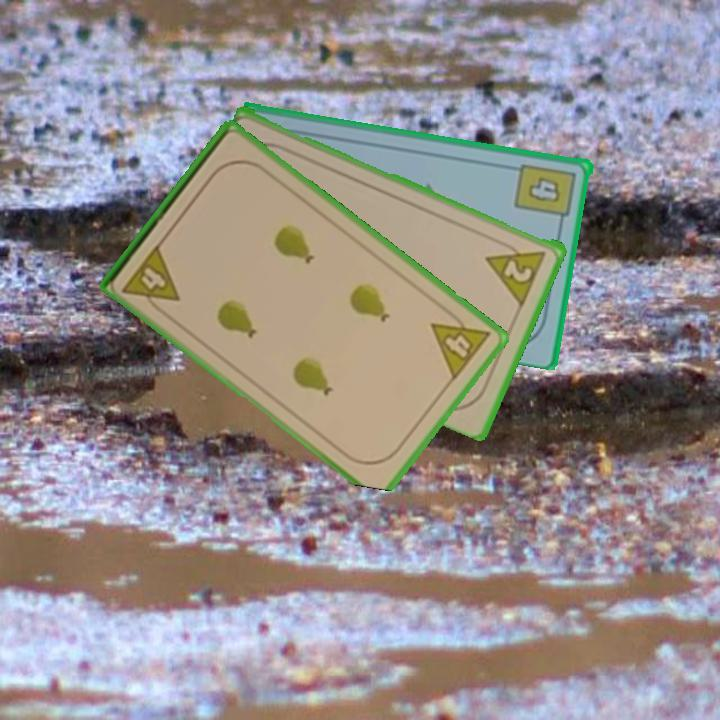2p: (483, 236, 550, 307)
4b: (512, 160, 580, 229)
4p: (427, 303, 493, 384), (119, 241, 183, 319)
